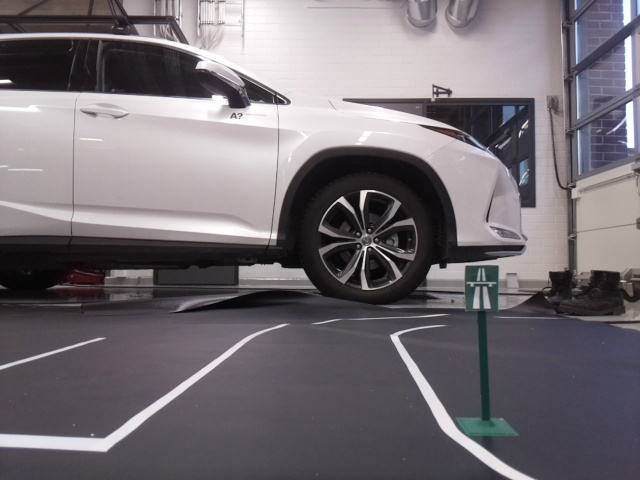HighwayEntrance: (466, 266, 496, 309)
